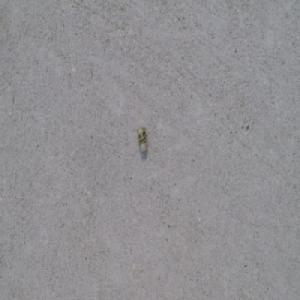BoltNutSet: (136, 126, 147, 153)
